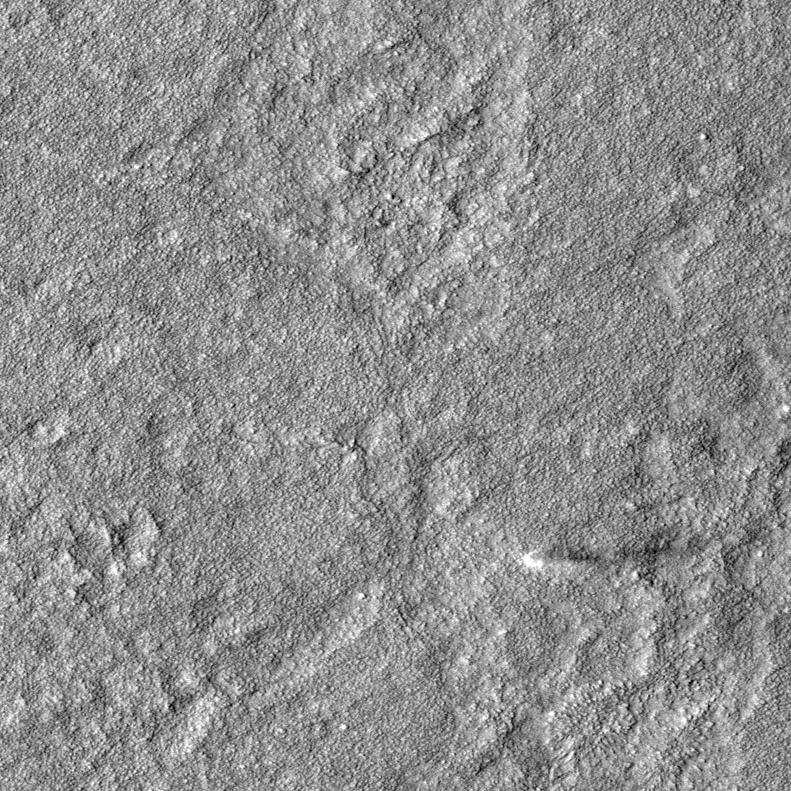dust_devil: (516, 542, 603, 578)
